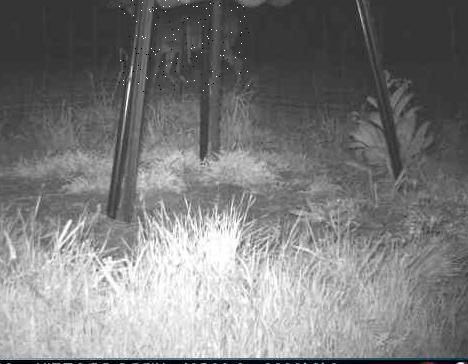Deer: (119, 0, 249, 92)
